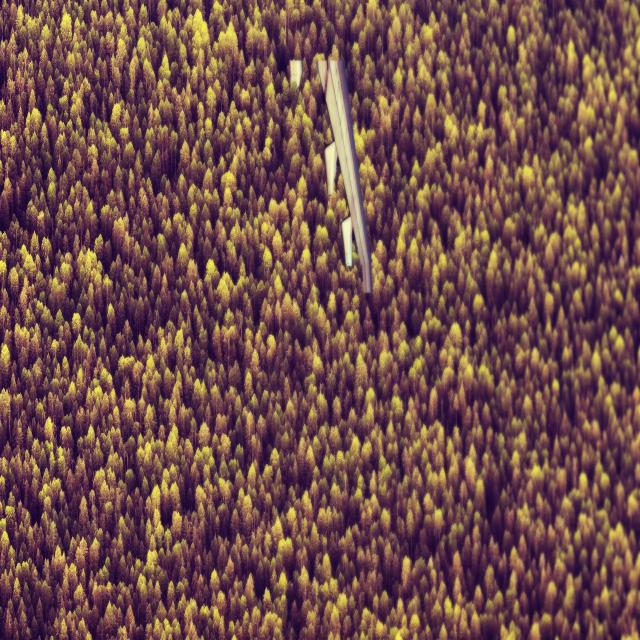airplane: (316, 56, 372, 294)
